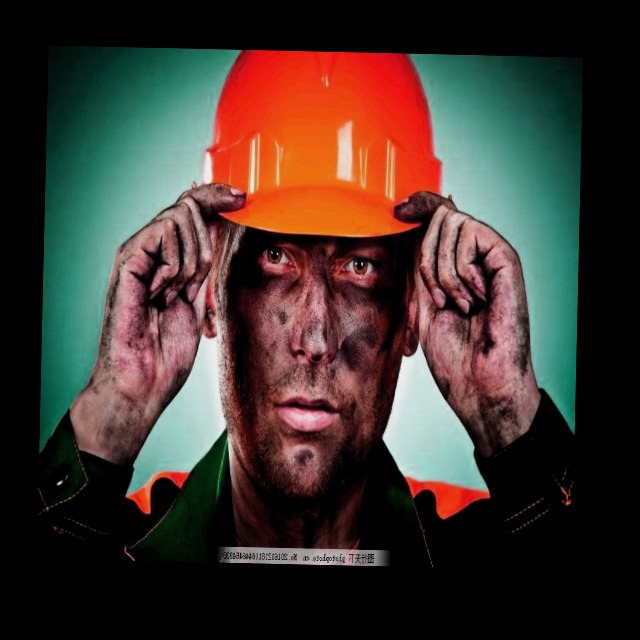Con_Casco: (194, 49, 450, 326)
